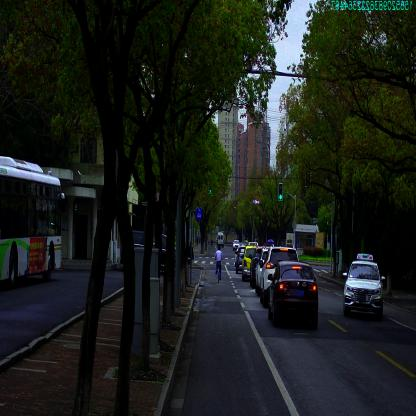traffic-light: (279, 183, 283, 200), (209, 179, 212, 195)
